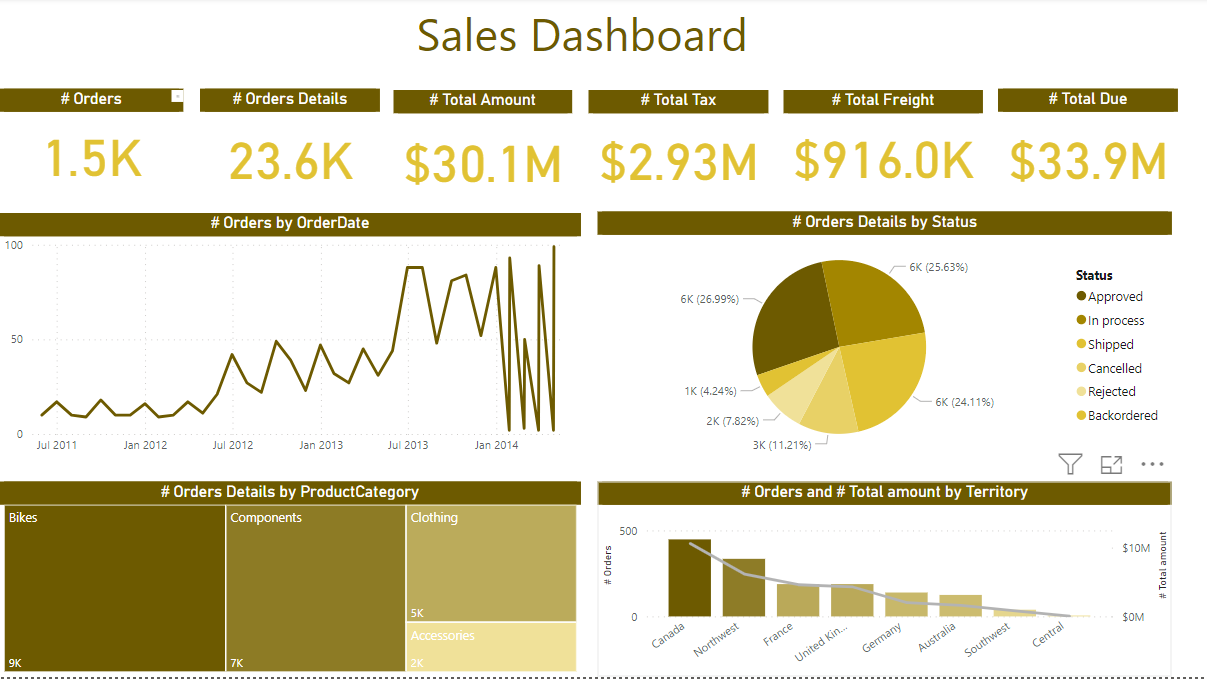

The page's visual inventory and layout, read from the dashboard file:
{"tool":"powerbi","page":{"name":"sales dashboard ","canvas":[1280,720],"ordinal":0},"visuals":[{"type":"card","title":"# Total Amount","fields":{"Values":["DAX Measures.# Total amount"]},"box":[418.6,98.5,189.1,122.4],"z":0},{"type":"card","title":"# Total Freight","fields":{"Values":["DAX Measures.# Total freight"]},"box":[830.9,98.5,211.4,114.4],"z":1000},{"type":"card","title":"# Total Due","fields":{"Values":["DAX Measures.# Total Due"]},"box":[1058.5,97,190.7,119.2],"z":2000},{"type":"card","title":"# Orders Details","fields":{"Values":["DAX Measures.# Orders Details"]},"box":[213,97,190.7,120.8],"z":3000},{"type":"card","title":"# Orders","fields":{"Values":["DAX Measures.# Orders"]},"box":[0,97,195.5,112.8],"z":4000},{"type":"card","title":"# Total Tax","fields":{"Values":["DAX Measures.# Total Tax"]},"box":[624,98.5,190.7,119.2],"z":5000},{"type":"lineChart","fields":{"Y":["DAX Measures.# Orders"],"Category":["Sales.OrderDate"]},"box":[0,228.9,616.7,263.8],"z":6000},{"type":"treemap","fields":{"Group":["Sales.ProductCategory","Sales.ProductSubCategory","Sales.Product"],"Values":["DAX Measures.# Orders Details"]},"box":[0,513.4,616.7,206.6],"z":7000},{"type":"pieChart","fields":{"Category":["Sales.Status"],"Y":["DAX Measures.# Orders Details"]},"box":[634.2,227.3,608.7,267],"z":8000},{"type":"lineStackedColumnComboChart","fields":{"Category":["Sales.Territory"],"Y":["DAX Measures.# Orders"],"Y2":["DAX Measures.# Total amount"]},"box":[634.2,513.4,608.7,206.6],"z":9000},{"type":"textbox","box":[182.8,98.5,12.7,12.7],"z":9001},{"type":"textbox","box":[0,0,1249.3,97],"z":9002}]}

Visuals, with their boxes in screenshot pixels (x1, y1, x2, y2), scaled from the page's 1280x720 canvas onto the 1207x679 screenshot:
"# Total Amount" card: box(395, 93, 573, 208)
"# Total Freight" card: box(784, 93, 983, 201)
"# Total Due" card: box(998, 91, 1178, 204)
"# Orders Details" card: box(201, 91, 381, 205)
"# Orders" card: box(0, 91, 184, 198)
"# Total Tax" card: box(588, 93, 768, 205)
lineChart - DAX Measures.# Orders x Sales.OrderDate: box(0, 216, 582, 465)
treemap - Sales.ProductCategory x Sales.ProductSubCategory: box(0, 484, 582, 678)
pieChart - Sales.Status x DAX Measures.# Orders Details: box(598, 214, 1172, 466)
lineStackedColumnComboChart - Sales.Territory x DAX Measures.# Orders: box(598, 484, 1172, 678)
textbox: box(172, 93, 184, 105)
textbox: box(0, 0, 1178, 91)
